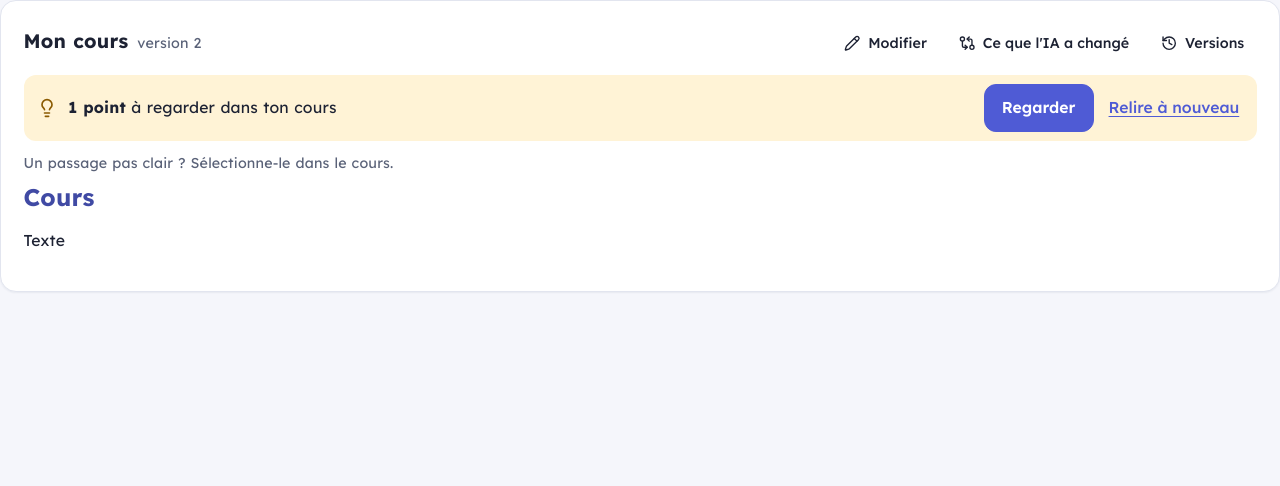
Test: CoursePanel — relecture › applique la suggestion acceptée et termine la relecture
Step 1. Click the button "Regarder" → (1039, 108), box x1=984 y1=84 x2=1094 y2=132
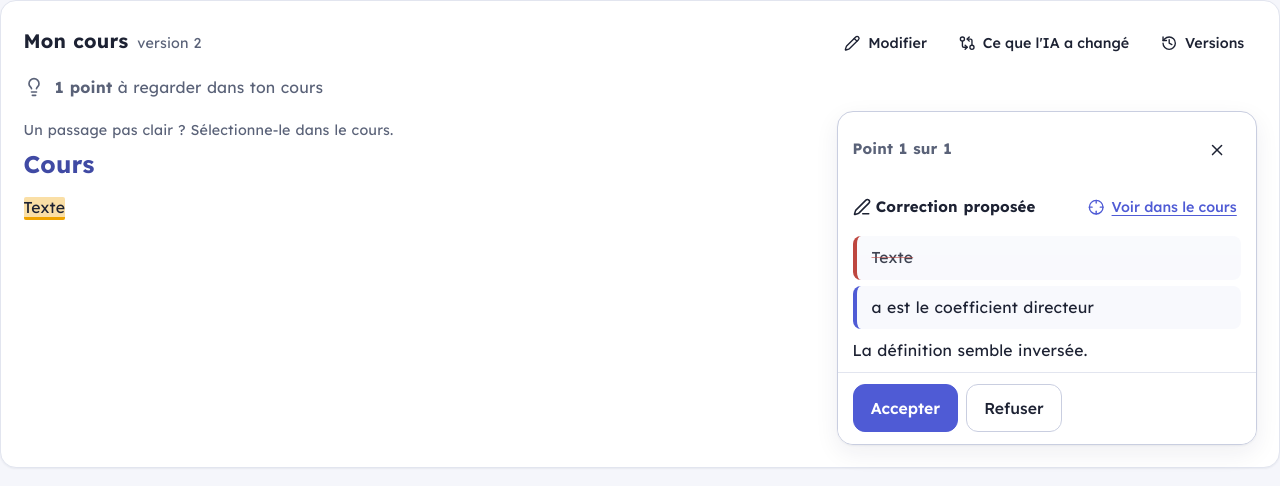
Step 2. Click the button "Accepter" → (906, 408), box x1=852 y1=384 x2=958 y2=432
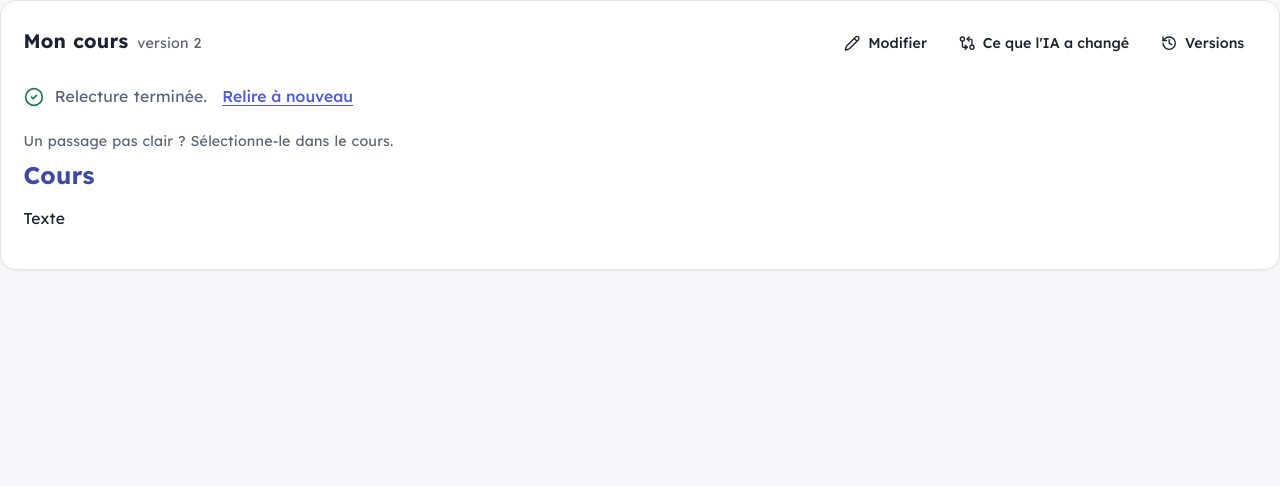
expect the element with class "course-review-bar" shows "Relecture terminée": met, box x1=55 y1=86 x2=207 y2=106
